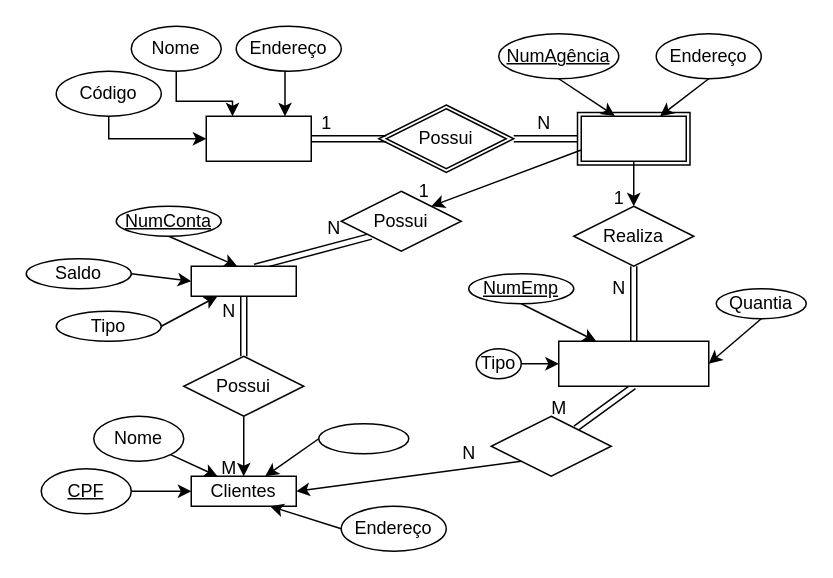
Image size: 833x578. Some labels were removed from this diagram. Each missing label, with the centre of its shape:
AGÊNCIAS: the point at 633,138
Bancos: the point at 258,138
Contas: the point at 243,280
EMPRESTIMOS: the point at 633,363
Requisita: the point at 550,445
Telefone: the point at 363,438
